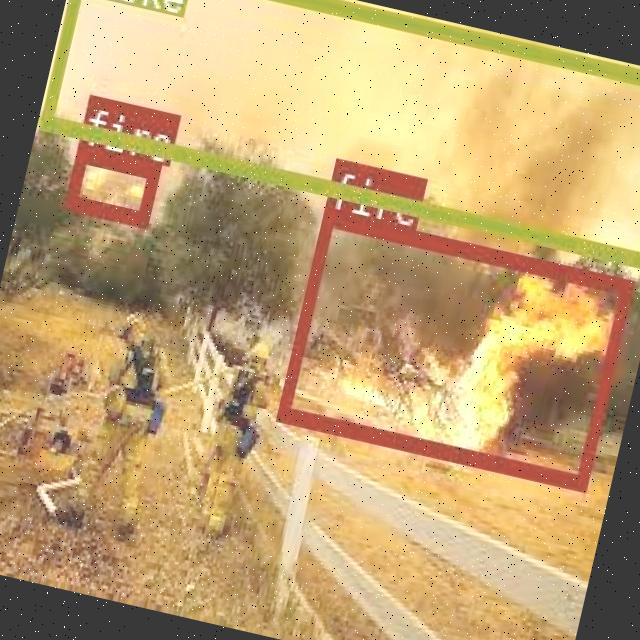fire: (276, 208, 630, 487), (63, 143, 158, 224)
smoke: (37, 0, 640, 266)
